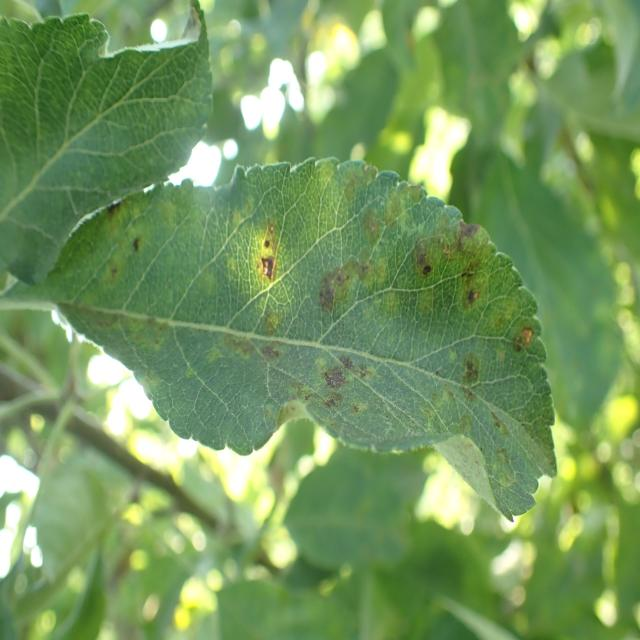scab: (62, 163, 560, 500)
